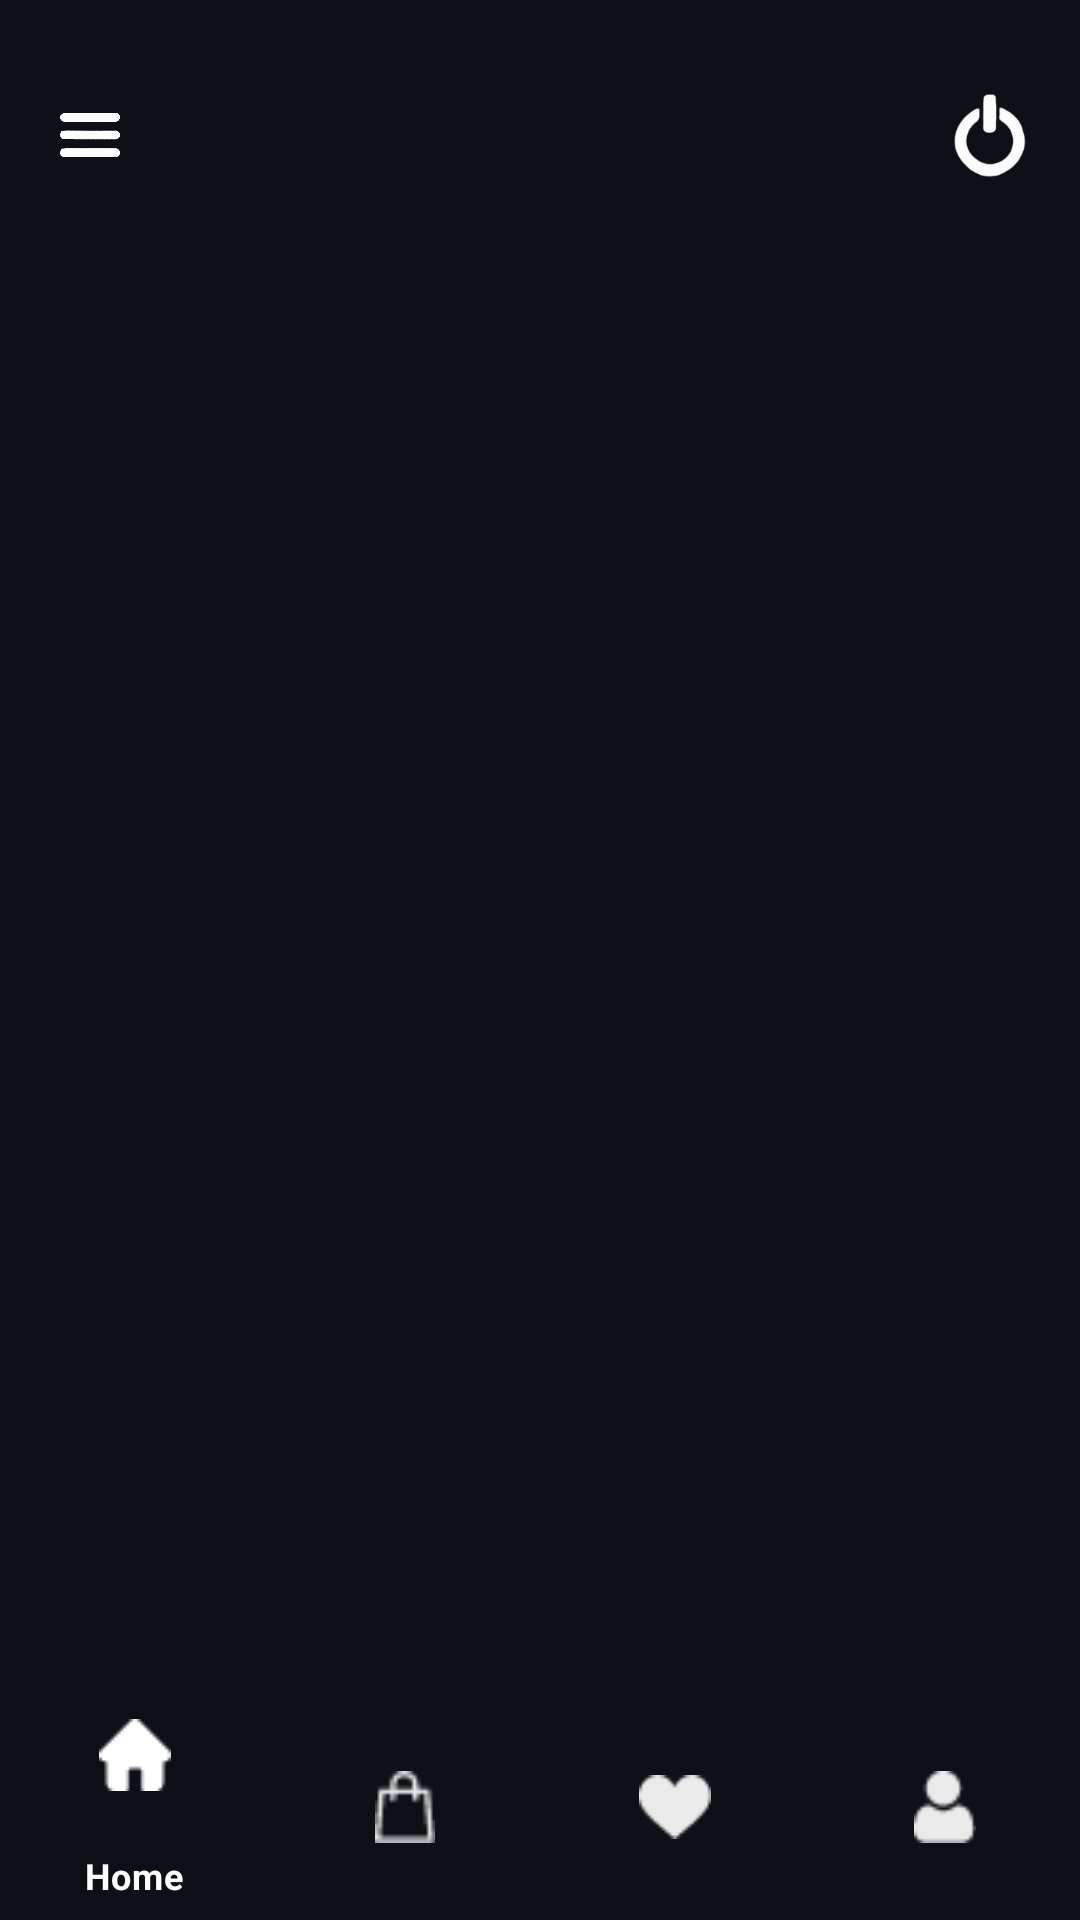

Icon click points for this 1080w x 1920h phone screenshot, format (x=x, y=y):
menu: (x=90, y=135)
